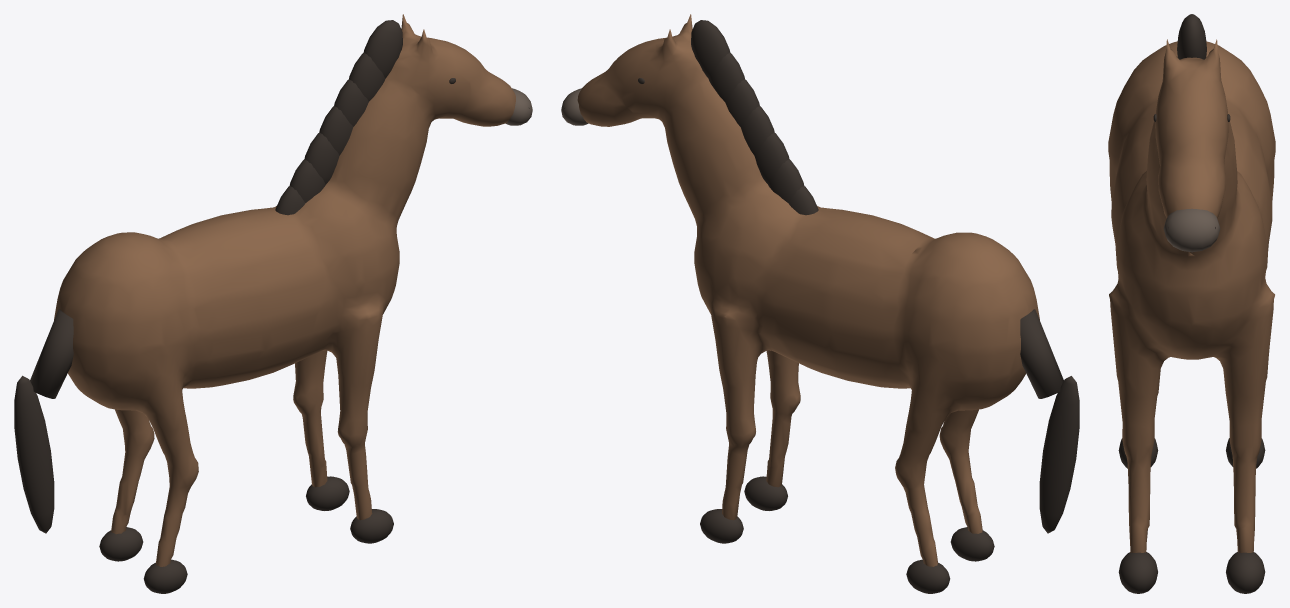
File: pasture-horse.glb
The picture shows the model from 3 angles, left to right: view 1: azimuth 30°, elevation 25°; view 2: azimuth 150°, elevation 25°; view 3: azimuth 270°, elevation 25°; orthographic projection. The views are drawn at different scales.
Visible parts, largest first — view 1: horse-chestnut, horse-mane-hooves; view 2: horse-chestnut, horse-mane-hooves; view 3: horse-chestnut, horse-mane-hooves, horse-muzzle.
Part boxes in pixels (box(x1,y1,x2,y2)): horse-chestnut: box(54, 14, 515, 566); horse-mane-hooves: box(14, 20, 529, 593); horse-chestnut: box(577, 14, 1039, 566); horse-mane-hooves: box(564, 20, 1079, 593); horse-chestnut: box(1108, 39, 1275, 552); horse-mane-hooves: box(1118, 14, 1265, 593); horse-muzzle: box(1163, 208, 1220, 252).
Size of the model in its own units: 2.14 by 1.97 by 0.501.
